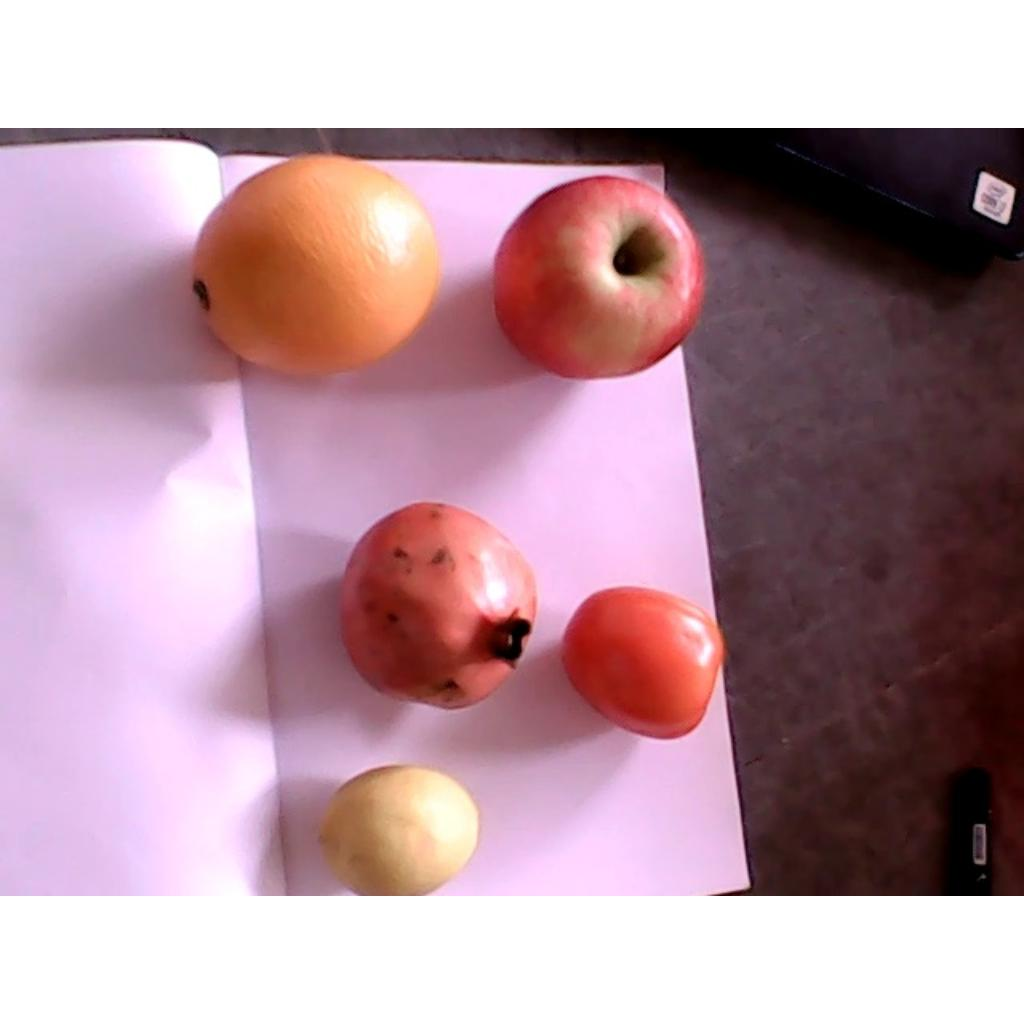apple: (493, 175, 705, 377)
lemon: (315, 766, 480, 894)
orange: (191, 154, 441, 373)
pomegranate: (338, 503, 537, 705)
tomato: (560, 587, 720, 738)
